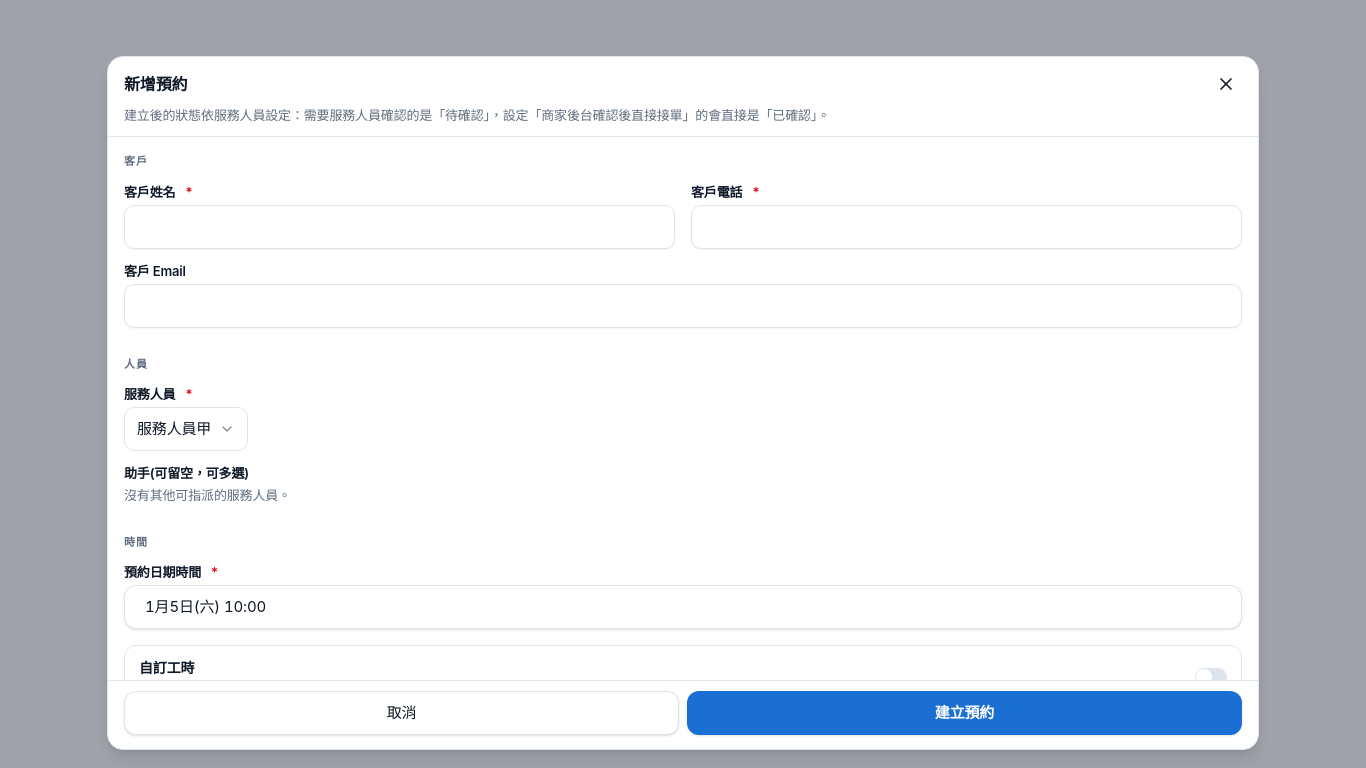
Test: 建單表單 × 會員面板(#915 / #936) › #936 到店服務:沒有地址欄位,點選只帶入電話與姓名
In the field with id "booking-customer-phone": [966, 227] box [691,205,1242,249], type "0903"
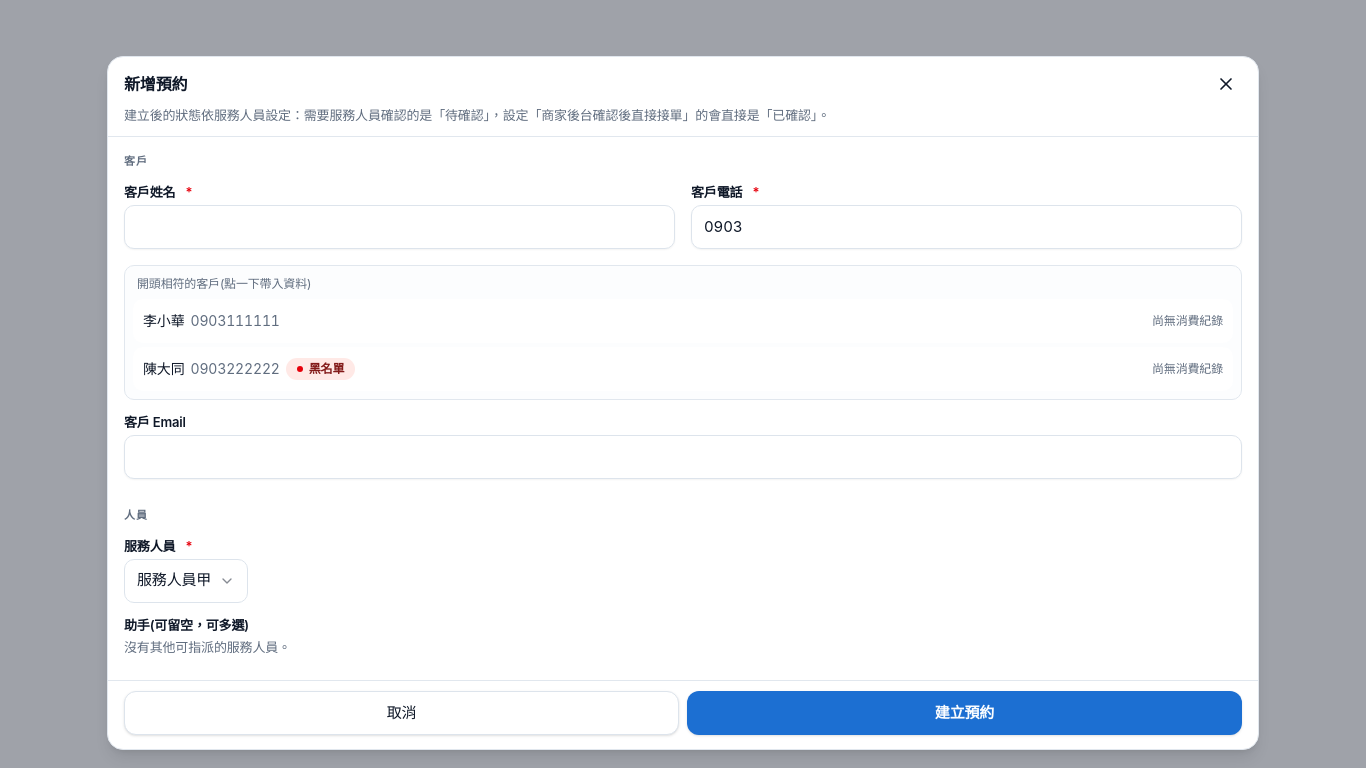
Click the button "李小華 0903111111 尚無消費紀錄": [164, 321] box [133,299,1233,343]
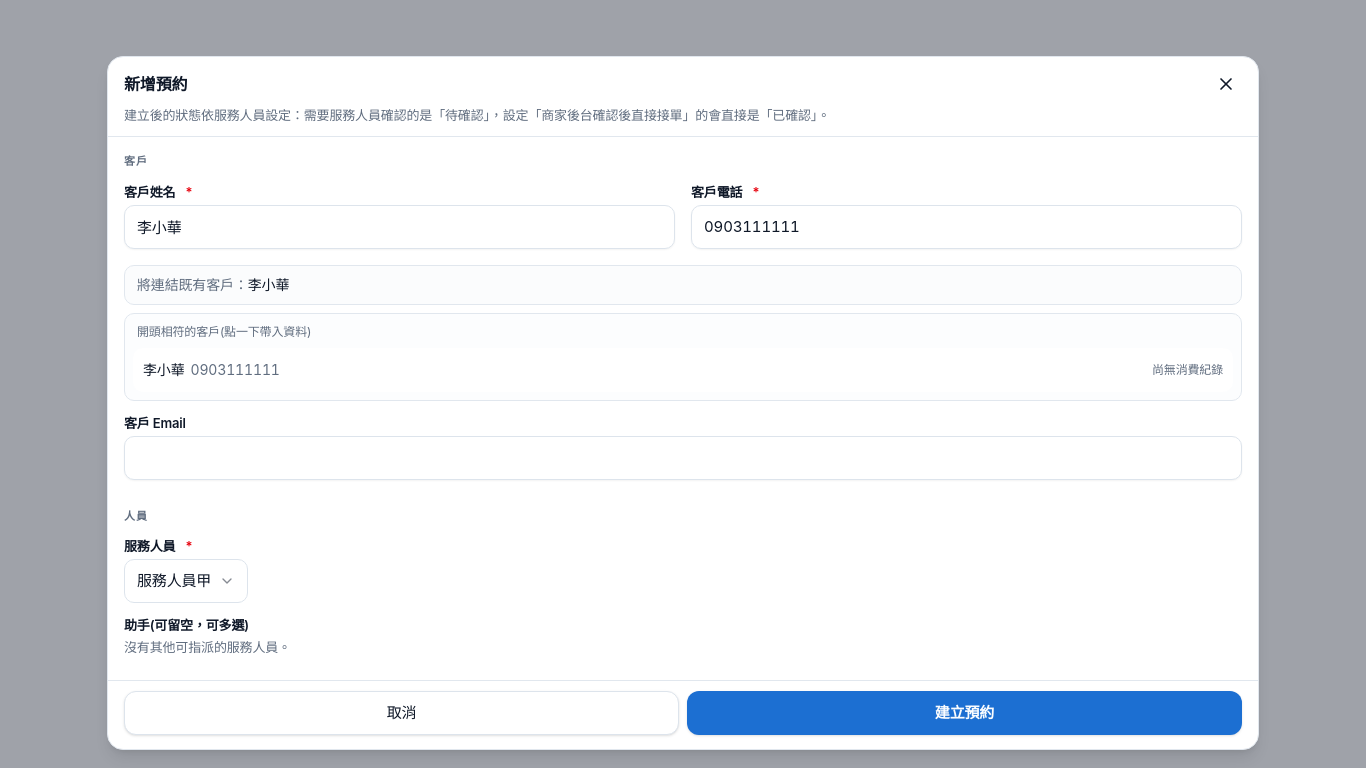
Result: the field with id "booking-customer-phone" holds "0903111111" at [691,205,1242,249]
Result: the field with id "booking-customer-name" holds "李小華" at [124,205,675,249]
